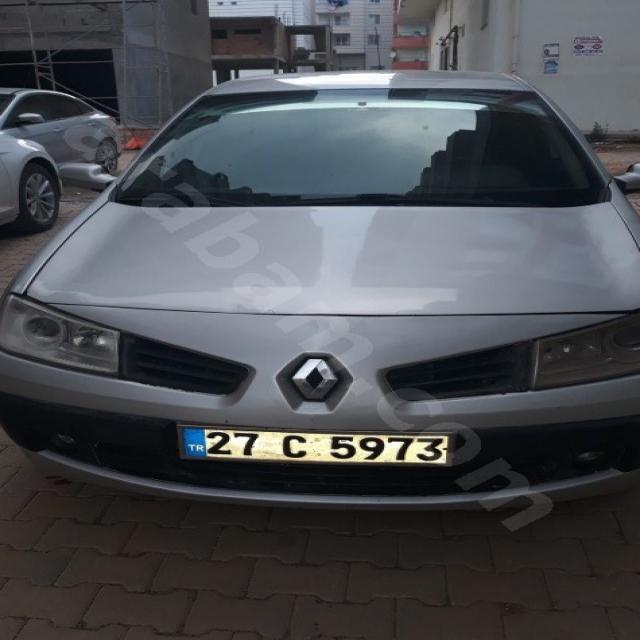license_plate: (178, 426, 447, 464)
